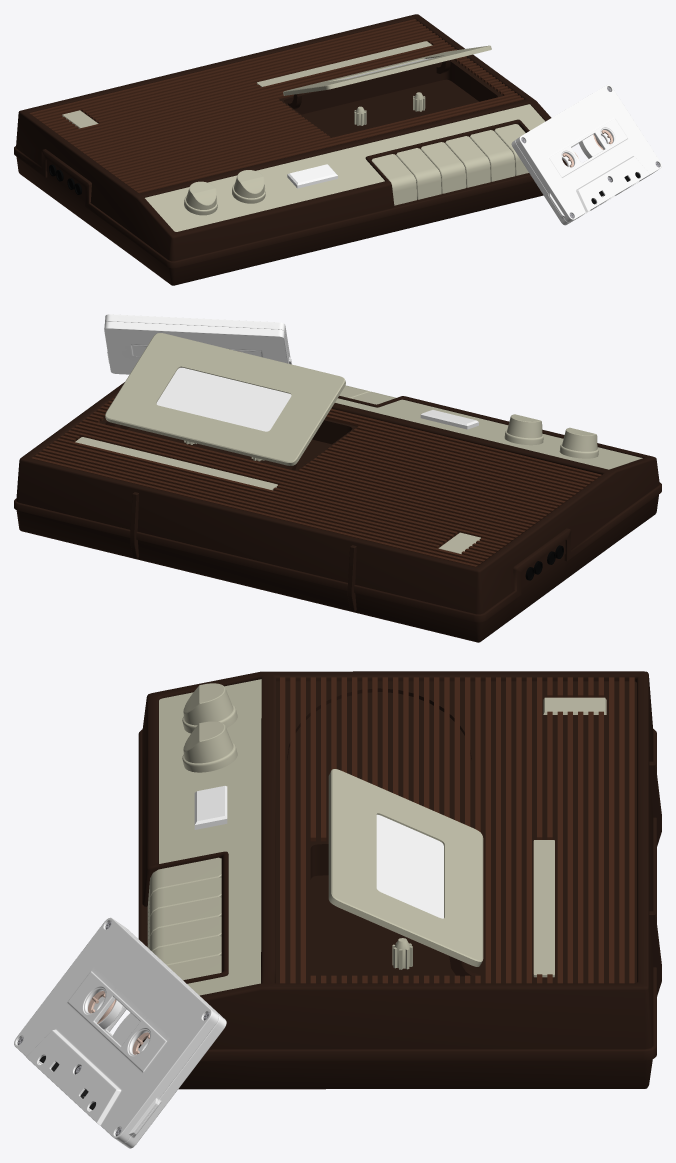
File: cassete_tape_player.glb
The picture shows the model from 3 angles, top to bottom: view 1: azimuth 30°, elevation 25°; view 2: azimuth 150°, elevation 25°; view 3: azimuth 270°, elevation 25°; orthographic projection. The views are drawn at different scales.
Visible parts, largest first — view 1: model_1.017, model_1.057, model_1.002, model_1.082, model_1.087, model_10.042, model_1.015, model_1.060, model_1.014, model_1.088, model_1.016, model_1.035 (+6 smaller); view 2: model_1.017, model_1.057, model_10.042, model_10.040, model_0, model_1.082, model_1.087, model_1.035, model_1.002, model_3, model_3.001, model_12.112 (+3 smaller); view 3: model_1.017, model_1.087, model_1.057, model_1.002, model_1.082, model_10.042, model_10.040, model_1.035, model_3, model_0, model_3.001, model_1.016 (+8 smaller).
Boxes of the visible parts, box(x1,y1,x2,y2) form: model_1.017: box(14, 14, 567, 285); model_1.057: box(29, 19, 523, 193); model_1.002: box(516, 84, 661, 222); model_1.082: box(145, 104, 544, 231); model_1.087: box(81, 41, 502, 137); model_10.042: box(283, 45, 491, 95); model_1.015: box(469, 130, 515, 181); model_1.060: box(396, 148, 441, 199); model_1.014: box(420, 142, 466, 193); model_1.088: box(445, 136, 490, 187); model_1.016: box(371, 154, 416, 205); model_1.035: box(257, 41, 432, 87); model_1.017: box(14, 382, 661, 642); model_1.057: box(31, 396, 601, 566); model_10.042: box(105, 333, 345, 465); model_10.040: box(156, 367, 291, 431); model_0: box(104, 321, 291, 374); model_1.082: box(335, 398, 642, 469); model_1.087: box(76, 418, 458, 546); model_1.035: box(75, 437, 277, 490); model_1.002: box(105, 314, 291, 364); model_3: box(504, 414, 543, 445); model_3.001: box(559, 427, 598, 458); model_12.112: box(420, 410, 478, 429); model_1.017: box(138, 671, 656, 1089); model_1.087: box(276, 681, 636, 983); model_1.057: box(280, 677, 634, 983); model_1.002: box(14, 917, 218, 1143); model_1.082: box(159, 679, 261, 995); model_10.042: box(328, 769, 483, 966); model_10.040: box(376, 814, 443, 918); model_1.035: box(533, 840, 554, 977); model_3: box(182, 721, 237, 772); model_0: box(83, 924, 226, 1148); model_3.001: box(182, 683, 237, 733); model_1.016: box(147, 857, 221, 924).
Bounding box in the file's own units: 0.519 × 0.1109 × 0.368.
Materials: 10 (1 with a texture image).
